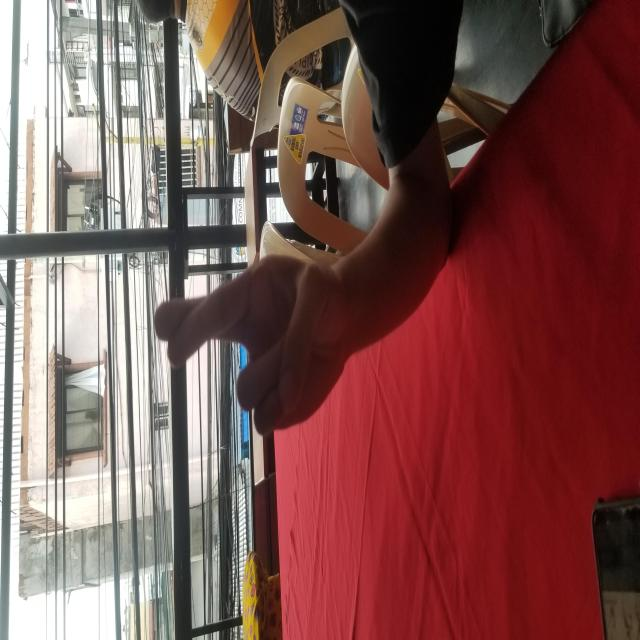R: (202, 152, 390, 351)
